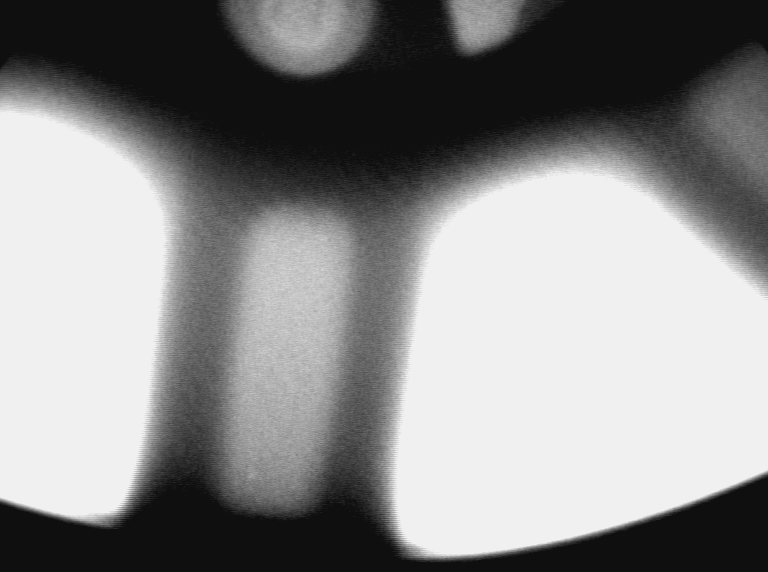defect: (243, 435, 264, 487)
